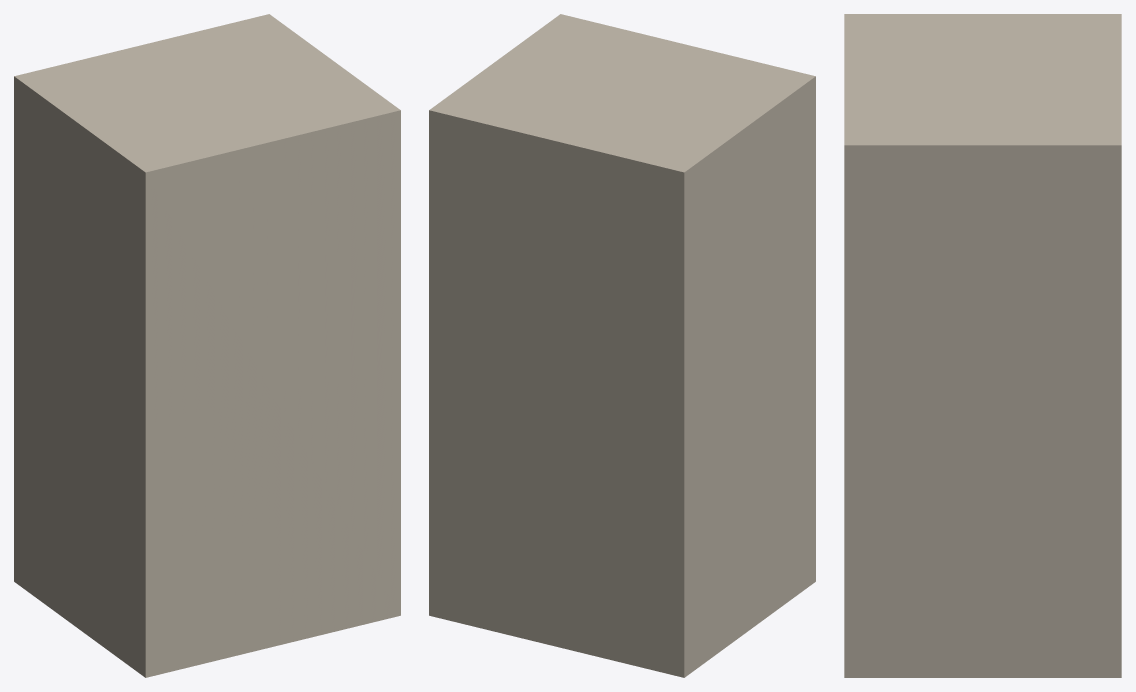
Rendered from ikea-millberget-40468637-g2-proxy.glb.
The picture shows the model from 3 angles, left to right: view 1: azimuth 30°, elevation 25°; view 2: azimuth 150°, elevation 25°; view 3: azimuth 270°, elevation 25°; orthographic projection. The views are drawn at different scales.
Visible parts, largest first — view 1: proxy_body; view 2: proxy_body; view 3: proxy_body.
Boxes of the visible parts, x1,y1,x2,y2 form: proxy_body: [14, 14, 400, 677]; proxy_body: [429, 14, 815, 677]; proxy_body: [844, 14, 1121, 677].
Size of the model in its own units: 0.65 by 1.23 by 0.58.
